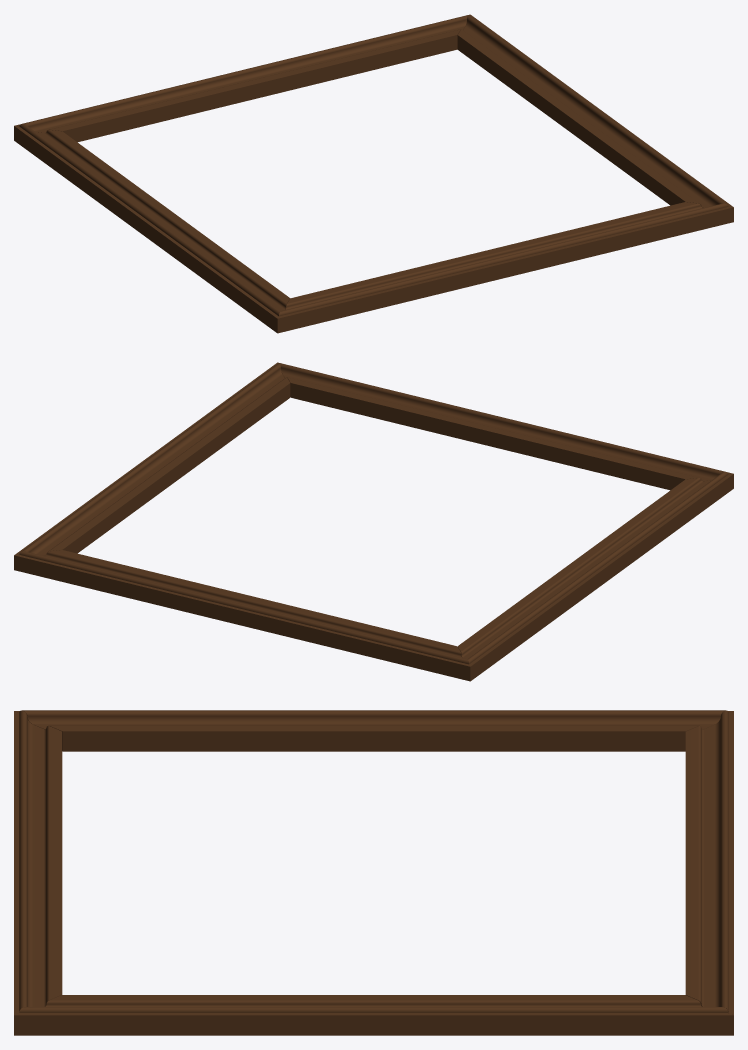
Rendered from PictureFrame.fbx.
The picture shows the model from 3 angles, top to bottom: view 1: azimuth 30°, elevation 25°; view 2: azimuth 150°, elevation 25°; view 3: azimuth 270°, elevation 25°; orthographic projection. The views are drawn at different scales.
Visible parts, largest first — view 1: pCube6; view 2: pCube6; view 3: pCube6.
Part boxes in pixels (x1,y1,x2,y2): pCube6: [14, 14, 733, 333]; pCube6: [14, 362, 733, 681]; pCube6: [14, 710, 733, 1035].
Bounding box in the file's own units: 3.96 × 0.1474 × 3.96.
